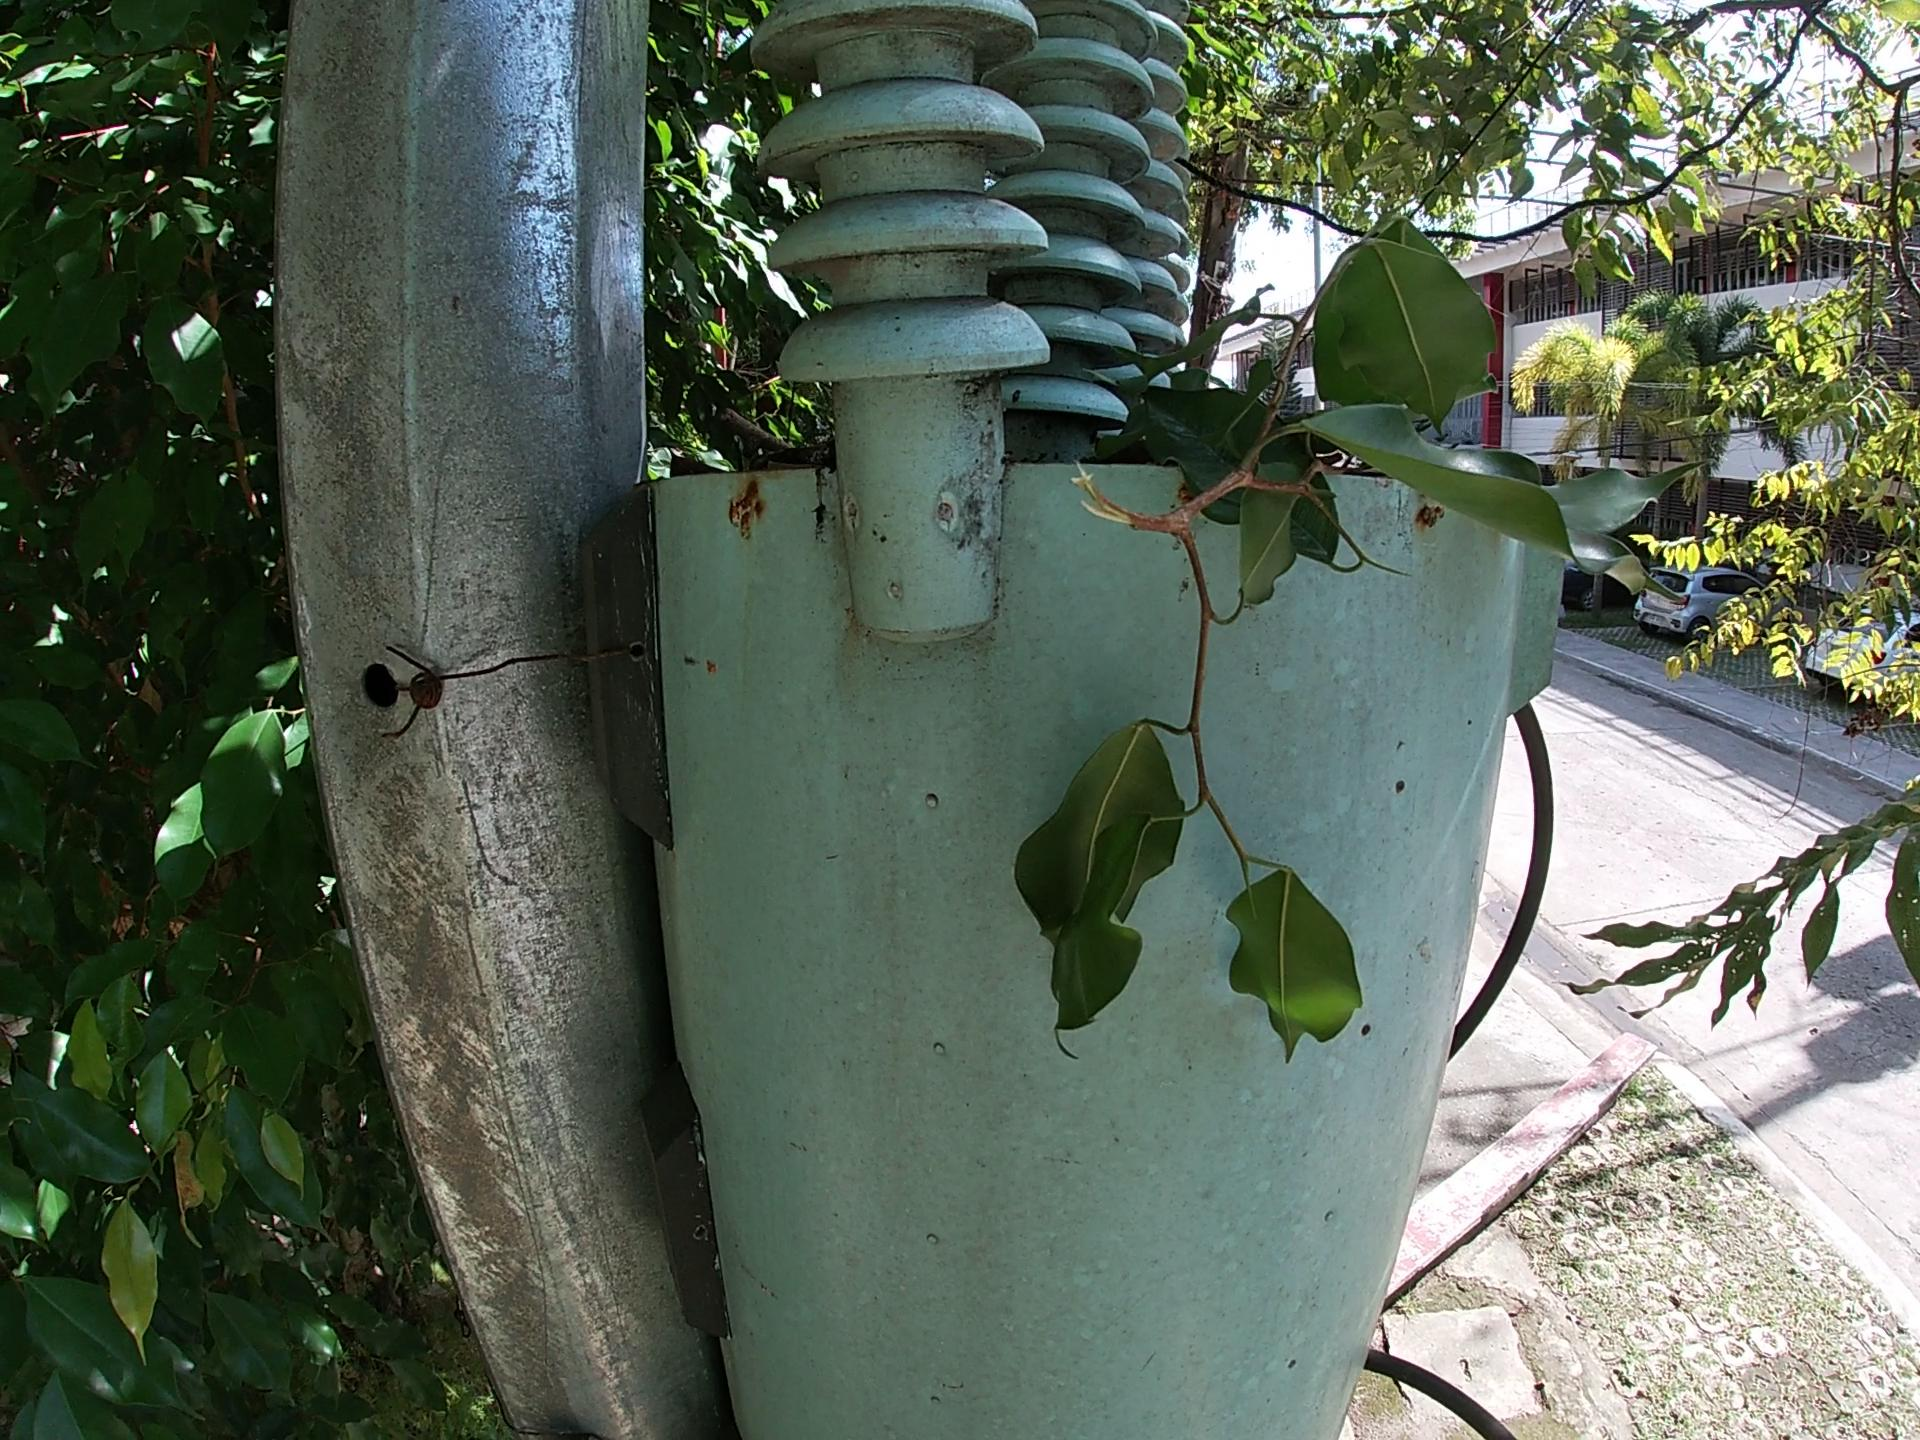branch with leaves: (1017, 180, 1720, 1184)
leaf: (664, 443, 726, 475)
tree branch: (705, 419, 806, 455)
